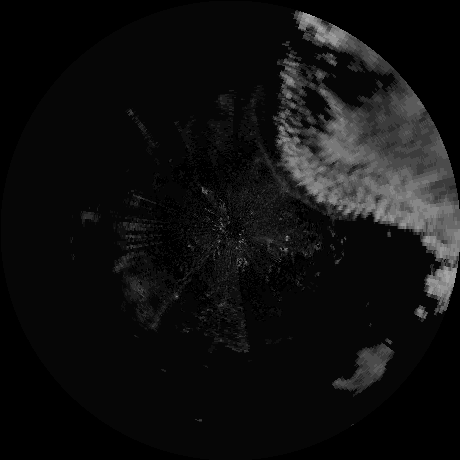frontgust: (261, 148, 327, 210)
